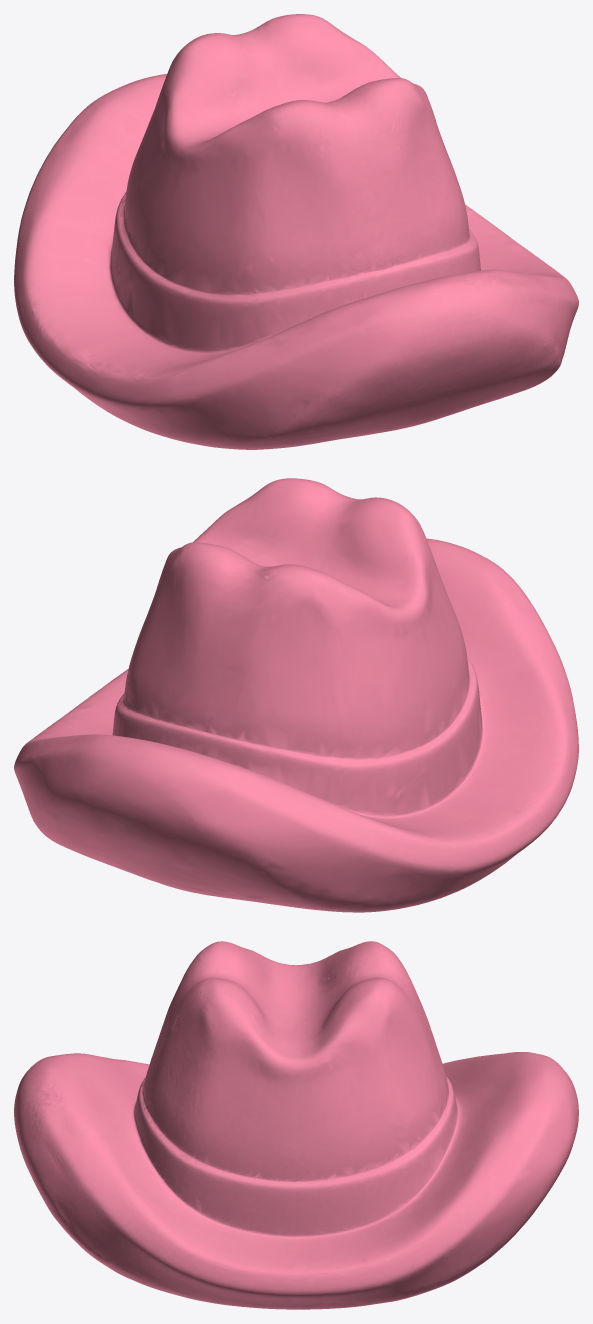
Rendered from jelly_balance_cherry.glb.
The picture shows the model from 3 angles, top to bottom: view 1: azimuth 30°, elevation 25°; view 2: azimuth 150°, elevation 25°; view 3: azimuth 270°, elevation 25°; orthographic projection. The views are drawn at different scales.
Visible parts, largest first — view 1: tripo_node_888680c2-ff73-49f7-9416-1059782476da; view 2: tripo_node_888680c2-ff73-49f7-9416-1059782476da; view 3: tripo_node_888680c2-ff73-49f7-9416-1059782476da.
Part boxes in pixels (x1,y1,x2,y2): tripo_node_888680c2-ff73-49f7-9416-1059782476da: [14, 14, 578, 449]; tripo_node_888680c2-ff73-49f7-9416-1059782476da: [14, 478, 578, 912]; tripo_node_888680c2-ff73-49f7-9416-1059782476da: [14, 941, 578, 1309].
Size of the model in its own units: 0.8182 by 0.5101 by 0.9803.
1 material, 1 textured.
